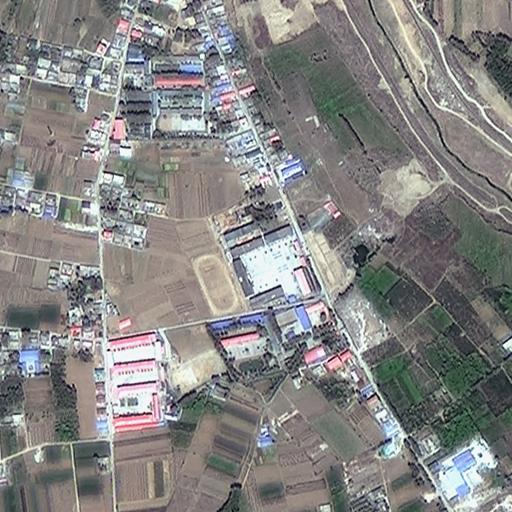school: (103, 323, 227, 433), (191, 218, 318, 315), (212, 312, 278, 372)
